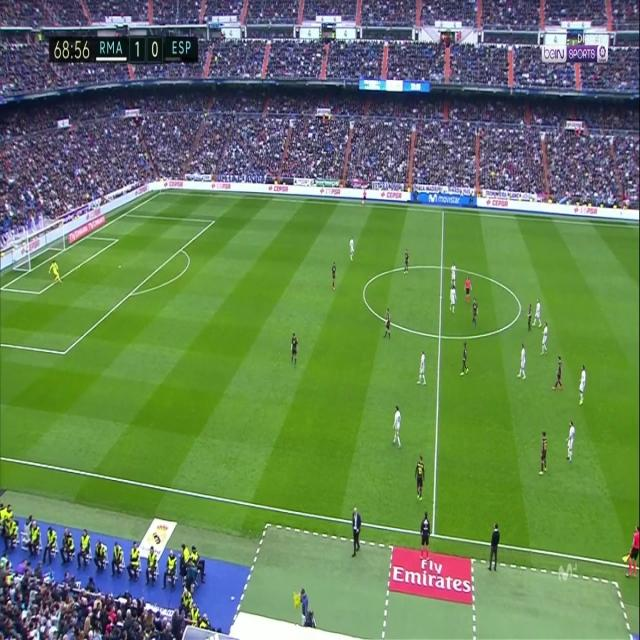Goalkeeper: (47, 258, 63, 288)
Player: (564, 416, 578, 468), (390, 402, 403, 454), (538, 428, 550, 479), (414, 452, 426, 502), (576, 362, 589, 407), (516, 339, 529, 382), (414, 348, 428, 387), (551, 350, 564, 392), (458, 339, 470, 382), (539, 318, 551, 358), (532, 296, 544, 328), (289, 329, 299, 367), (383, 305, 392, 341), (449, 281, 458, 317), (448, 261, 458, 290), (471, 297, 481, 326), (526, 301, 534, 333), (348, 234, 357, 262), (403, 246, 411, 275), (332, 258, 338, 292)
Referee: (463, 274, 474, 304), (362, 188, 368, 210)
